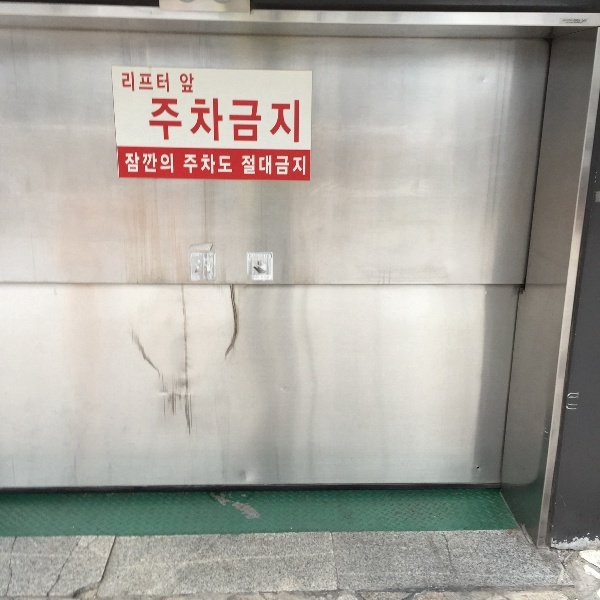text: (289, 94, 305, 148), (161, 94, 176, 148), (177, 94, 192, 148), (193, 94, 208, 148), (209, 94, 224, 148), (225, 94, 240, 148), (241, 94, 256, 148), (257, 94, 272, 148), (273, 94, 288, 148), (149, 94, 160, 148), (129, 69, 144, 98), (145, 69, 160, 98), (241, 152, 256, 179), (257, 152, 272, 179), (273, 152, 288, 179), (289, 152, 304, 179), (129, 151, 144, 177), (145, 151, 160, 177), (161, 151, 176, 177), (193, 152, 208, 176), (209, 152, 224, 176), (178, 72, 192, 97), (117, 69, 128, 98), (161, 69, 172, 98), (225, 152, 236, 176), (182, 152, 192, 176), (123, 151, 128, 177), (305, 152, 309, 179), (193, 72, 196, 97), (177, 151, 179, 177)
